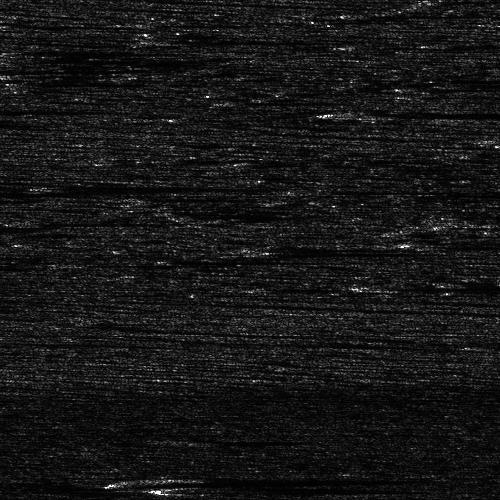object: (93, 467, 208, 488), (104, 477, 209, 498), (322, 280, 447, 291), (320, 110, 393, 115), (223, 249, 296, 254), (0, 54, 42, 61), (0, 48, 41, 55), (168, 437, 221, 442), (152, 39, 193, 42), (11, 184, 42, 187)
shadow: (151, 467, 393, 488), (156, 477, 338, 498), (0, 60, 171, 77), (385, 280, 500, 291), (16, 54, 191, 61), (0, 104, 99, 113), (20, 48, 138, 55), (357, 110, 500, 115), (27, 184, 264, 187), (259, 249, 387, 254), (173, 39, 357, 42), (0, 187, 39, 196), (195, 437, 256, 442)
